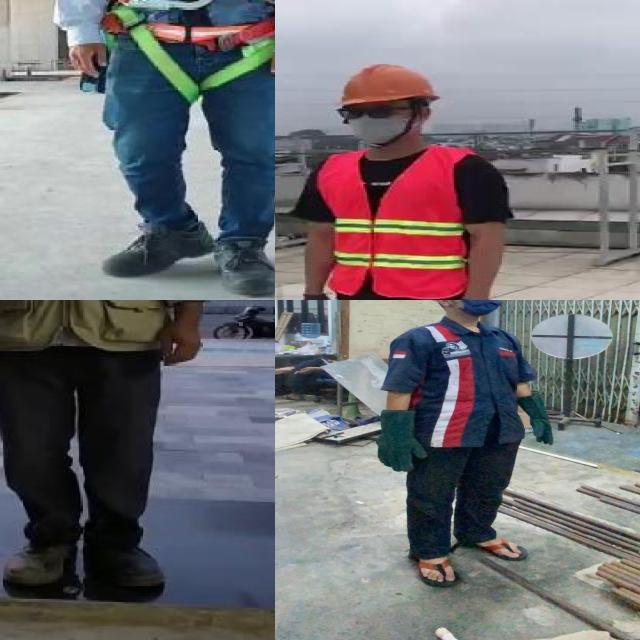face_mask: (336, 102, 418, 148), (454, 300, 504, 314)
glasses: (335, 101, 402, 124)
hand_glove: (370, 408, 433, 472), (518, 396, 563, 445)
hand_noglove: (151, 316, 208, 369), (61, 35, 116, 80), (264, 41, 275, 81)
head_helmet: (327, 59, 442, 108)
person: (0, 300, 216, 598), (57, 0, 275, 294), (286, 56, 519, 300), (379, 300, 550, 591)
shoes: (94, 215, 218, 280), (82, 531, 180, 591), (204, 223, 275, 300), (0, 530, 76, 587)
vest: (315, 147, 472, 299), (91, 0, 275, 48)
